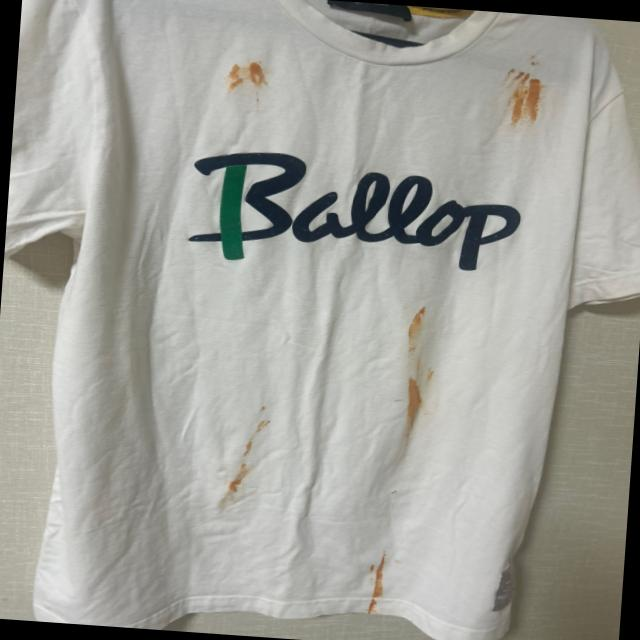stain: (216, 408, 282, 493), (492, 63, 552, 128), (397, 358, 437, 432), (219, 60, 277, 108), (364, 551, 396, 615), (397, 302, 435, 354), (516, 42, 554, 79), (398, 430, 422, 469), (384, 484, 402, 505)
